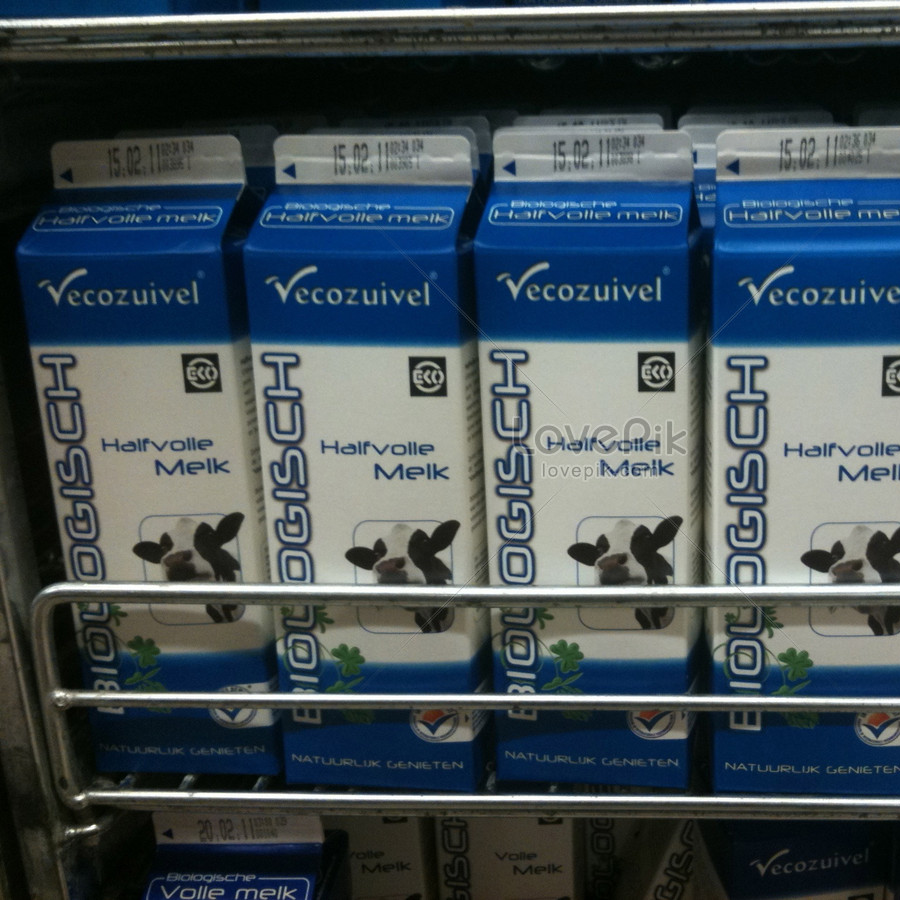milk: (22, 112, 899, 799)
